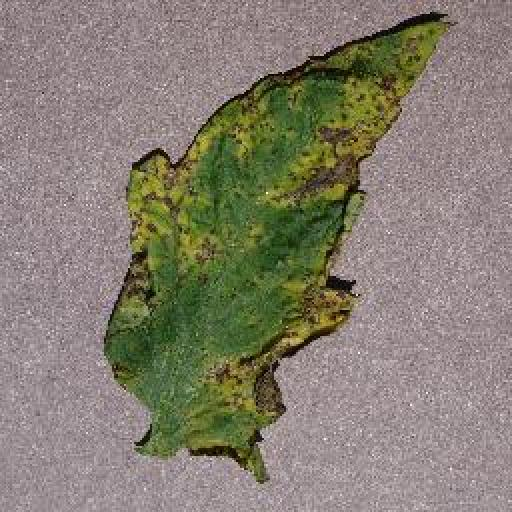Septoria: (109, 13, 460, 484)
